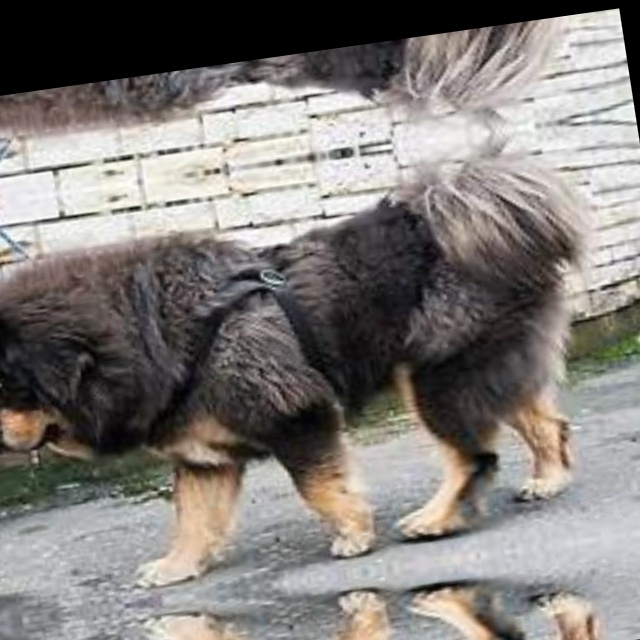dog: (0, 133, 616, 602), (0, 19, 555, 203), (0, 560, 636, 640)
